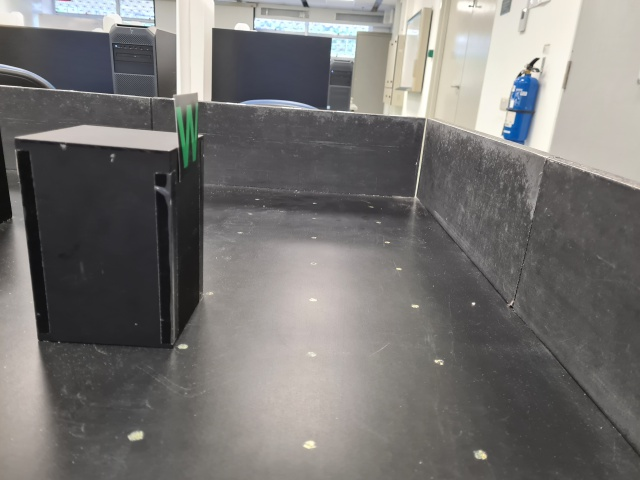alphabet_w: (170, 91, 208, 184)
